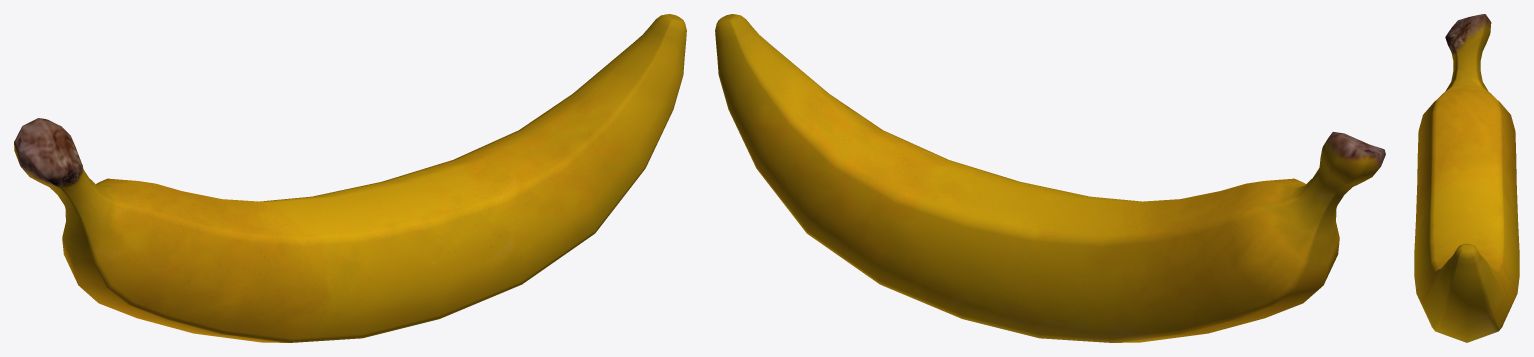
The model's file is banana.glb.
The picture shows the model from 3 angles, left to right: view 1: azimuth 30°, elevation 25°; view 2: azimuth 150°, elevation 25°; view 3: azimuth 270°, elevation 25°; orthographic projection. The views are drawn at different scales.
Visible parts, largest first — view 1: Куб.004; view 2: Куб.004; view 3: Куб.004.
Part boxes in pixels (x1,y1,x2,y2): Куб.004: [14, 14, 686, 342]; Куб.004: [715, 14, 1385, 342]; Куб.004: [1414, 14, 1519, 342].
Bounding box in the file's own units: 0.245 × 0.0987 × 0.0502.
Materials: 1 (1 with a texture image).
